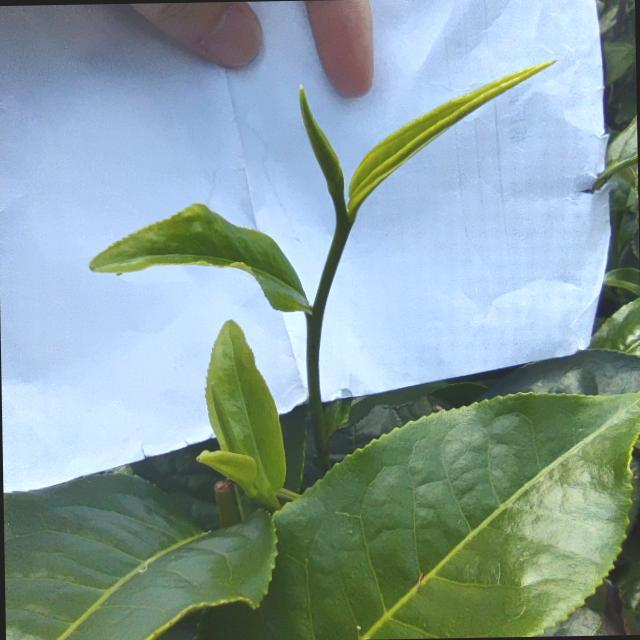Stem: (332, 221, 353, 244)
